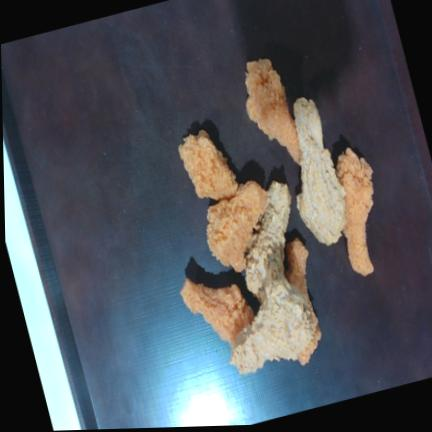chicken: (294, 98, 346, 245), (231, 284, 315, 373), (245, 59, 301, 164), (207, 181, 267, 272), (246, 181, 291, 300), (180, 278, 254, 343), (336, 148, 373, 275), (178, 130, 238, 200)
